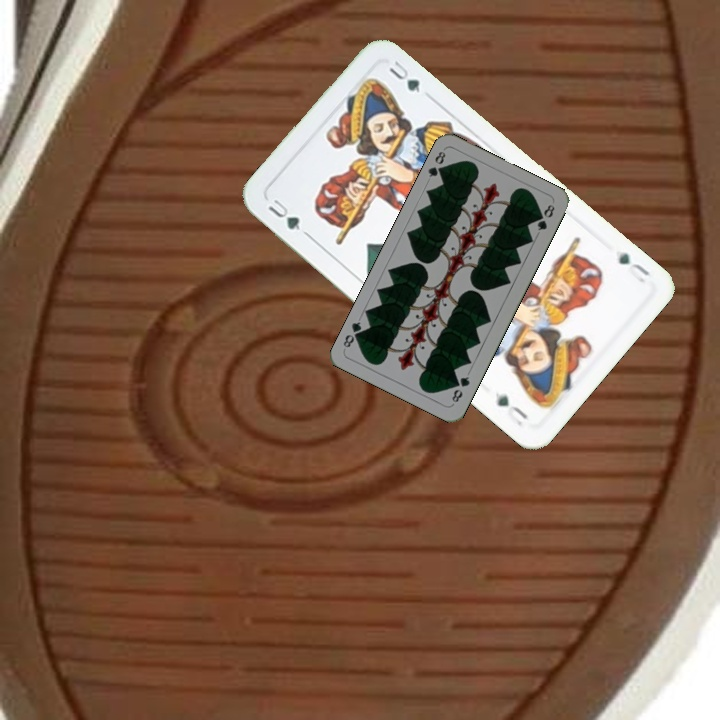G8: (448, 372, 472, 405), (424, 147, 448, 180)
GU: (264, 195, 303, 233), (614, 248, 652, 286)
